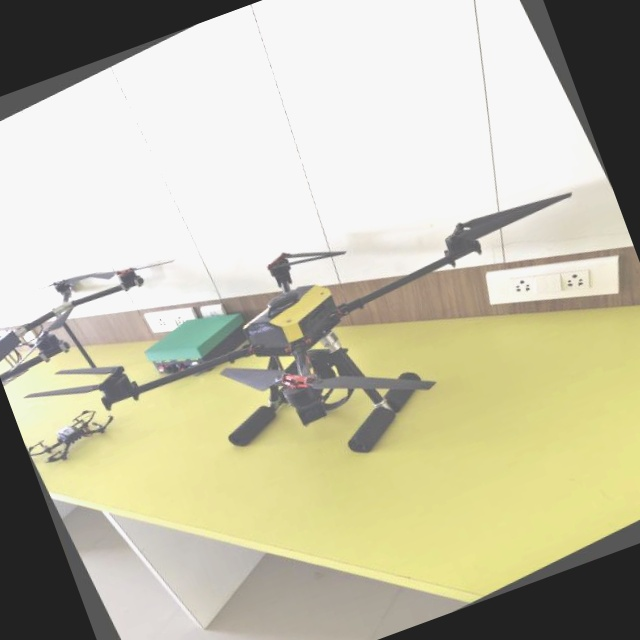quadcopter: (0, 98, 640, 587)
